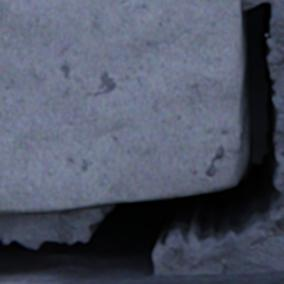brick: (0, 0, 241, 212), (0, 270, 283, 283)
crack: (0, 1, 283, 281)
